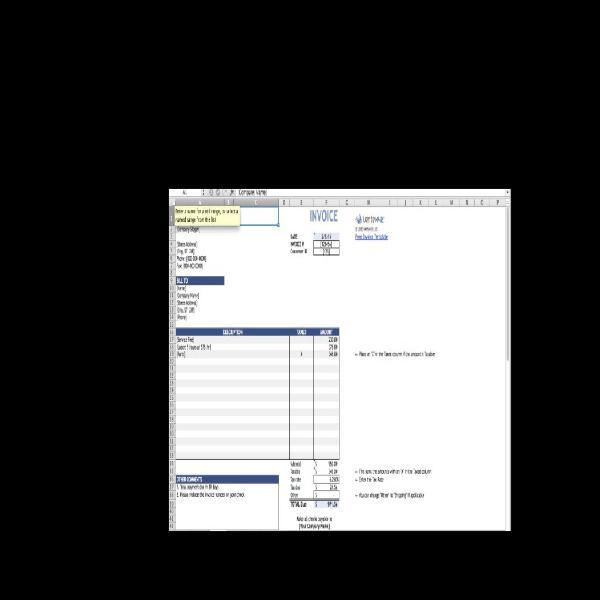test: (169, 189, 509, 530)
